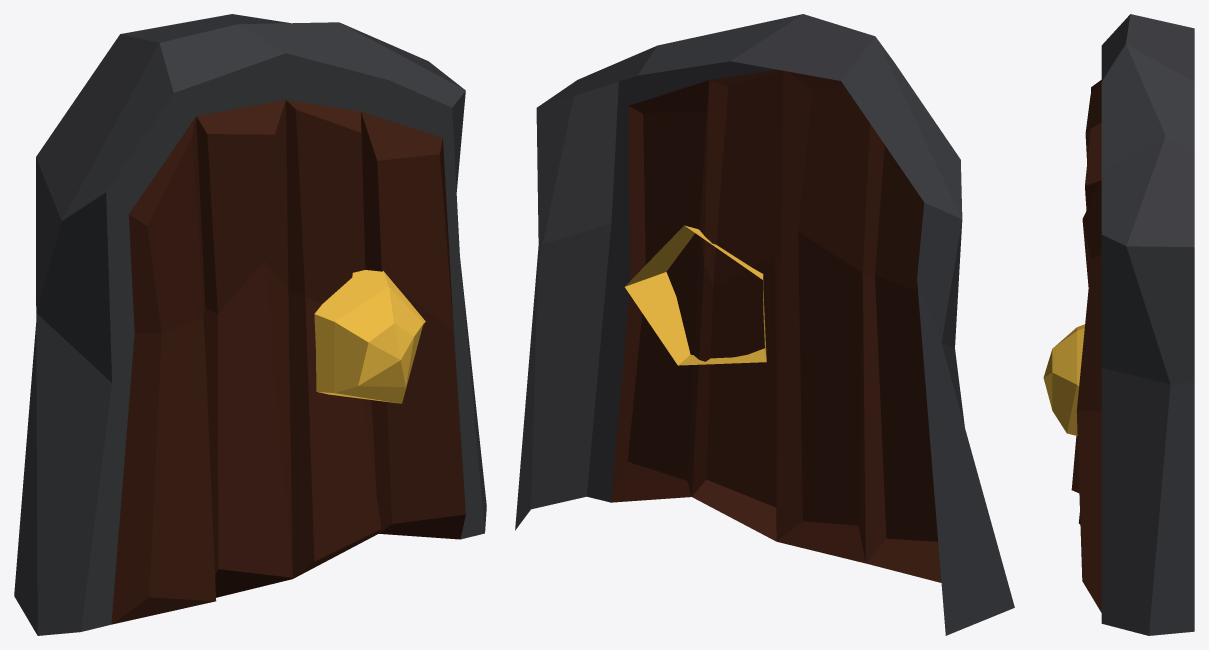
Rendered from SM_L_G_Home_Door.fbx.
3 renders of one model, left to right at view 1: azimuth 30°, elevation 25°; view 2: azimuth 150°, elevation 25°; view 3: azimuth 270°, elevation 25°, orthographic. The views are drawn at different scales.
Visible parts, largest first — view 1: SM_L_G_Home_Door; view 2: SM_L_G_Home_Door; view 3: SM_L_G_Home_Door.
Boxes of the visible parts, <box> form: SM_L_G_Home_Door: <box>14,14,486,635</box>; SM_L_G_Home_Door: <box>515,14,1014,635</box>; SM_L_G_Home_Door: <box>1043,14,1194,635</box>.
Bounding box in the file's own units: 1.25 × 1.42 × 0.4034.
